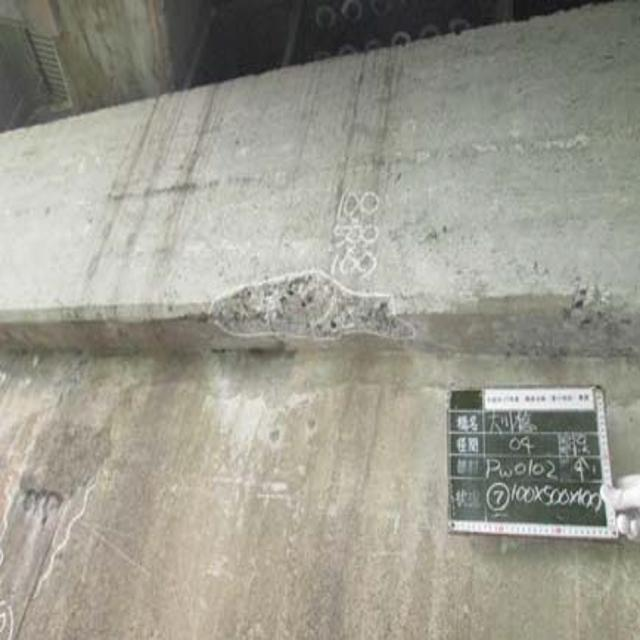spalling: (194, 252, 417, 348), (538, 250, 622, 341)
